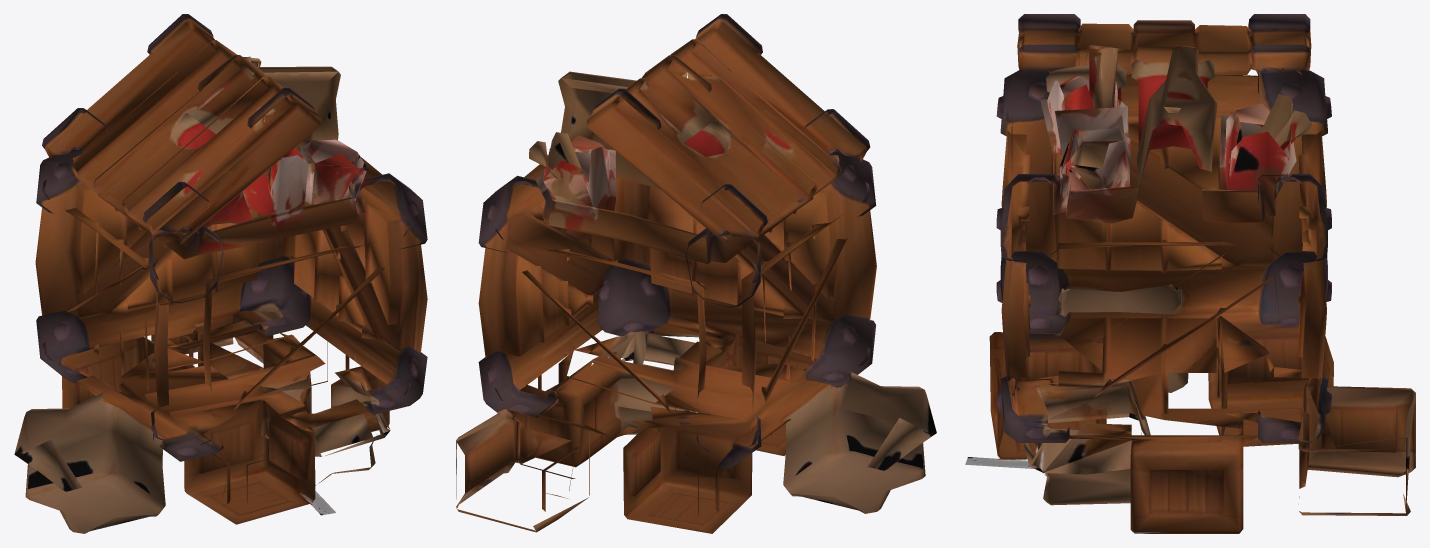
The model's file is crate.glb.
3 views of the same model, side by side, from view 1: azimuth 30°, elevation 25°; view 2: azimuth 150°, elevation 25°; view 3: azimuth 270°, elevation 25° (orthographic). The views are drawn at different scales.
Parts seen in each view (by area): view 1: tripo_node_dc012b5b-5462-4bee-b512-9cd80ac8a7f3; view 2: tripo_node_dc012b5b-5462-4bee-b512-9cd80ac8a7f3; view 3: tripo_node_dc012b5b-5462-4bee-b512-9cd80ac8a7f3.
Part boxes in pixels (bbox=[...]): tripo_node_dc012b5b-5462-4bee-b512-9cd80ac8a7f3: bbox=[14, 14, 427, 533]; tripo_node_dc012b5b-5462-4bee-b512-9cd80ac8a7f3: bbox=[456, 14, 936, 533]; tripo_node_dc012b5b-5462-4bee-b512-9cd80ac8a7f3: bbox=[965, 14, 1415, 533].
Size of the model in its own units: 0.9283 by 0.9608 by 0.8765.
1 material, 1 textured.
